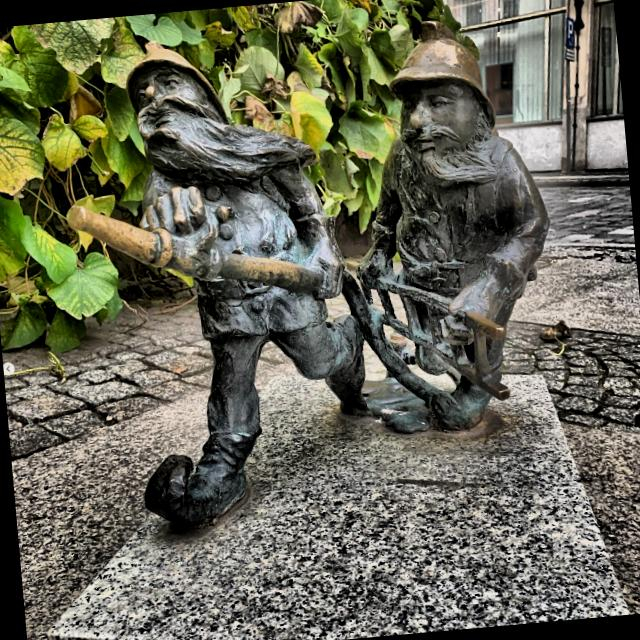Pozarki: (67, 20, 551, 527)
